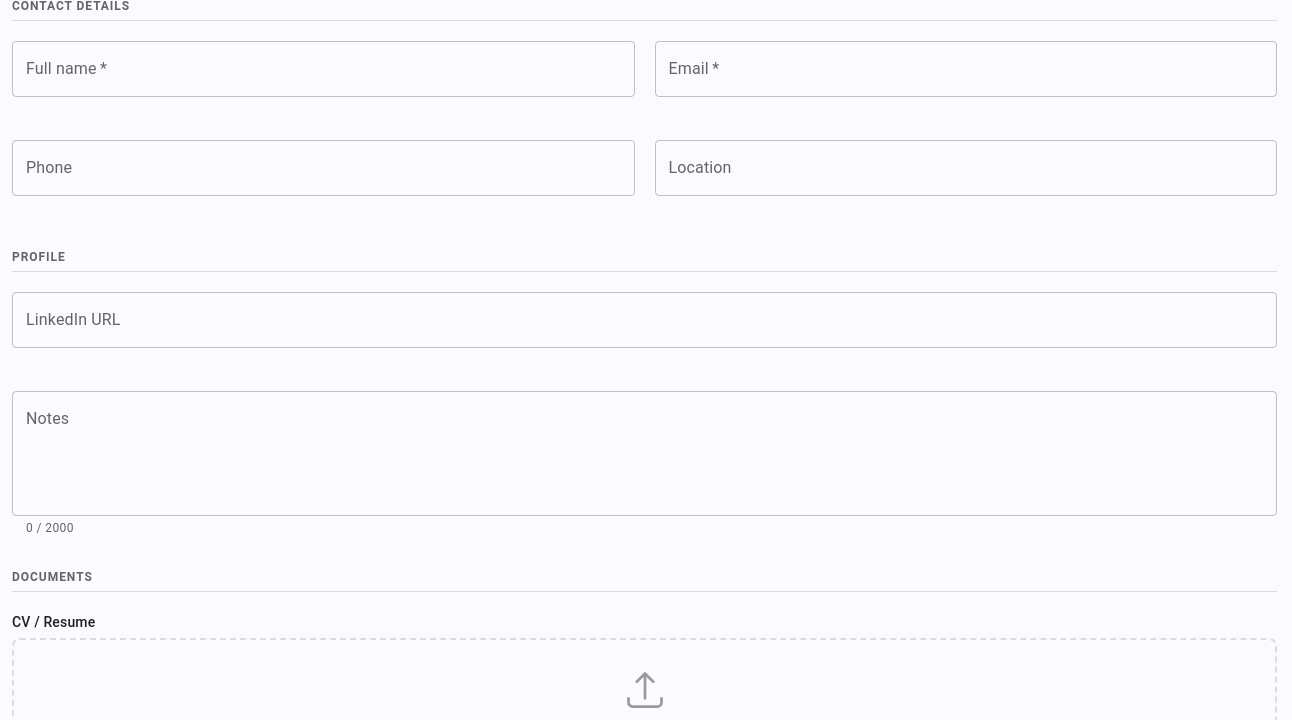
Test: validates invalid email format
In the field labelled "Full name *": [323, 69] box [12,41,634,97], type "Ada Lovelace"
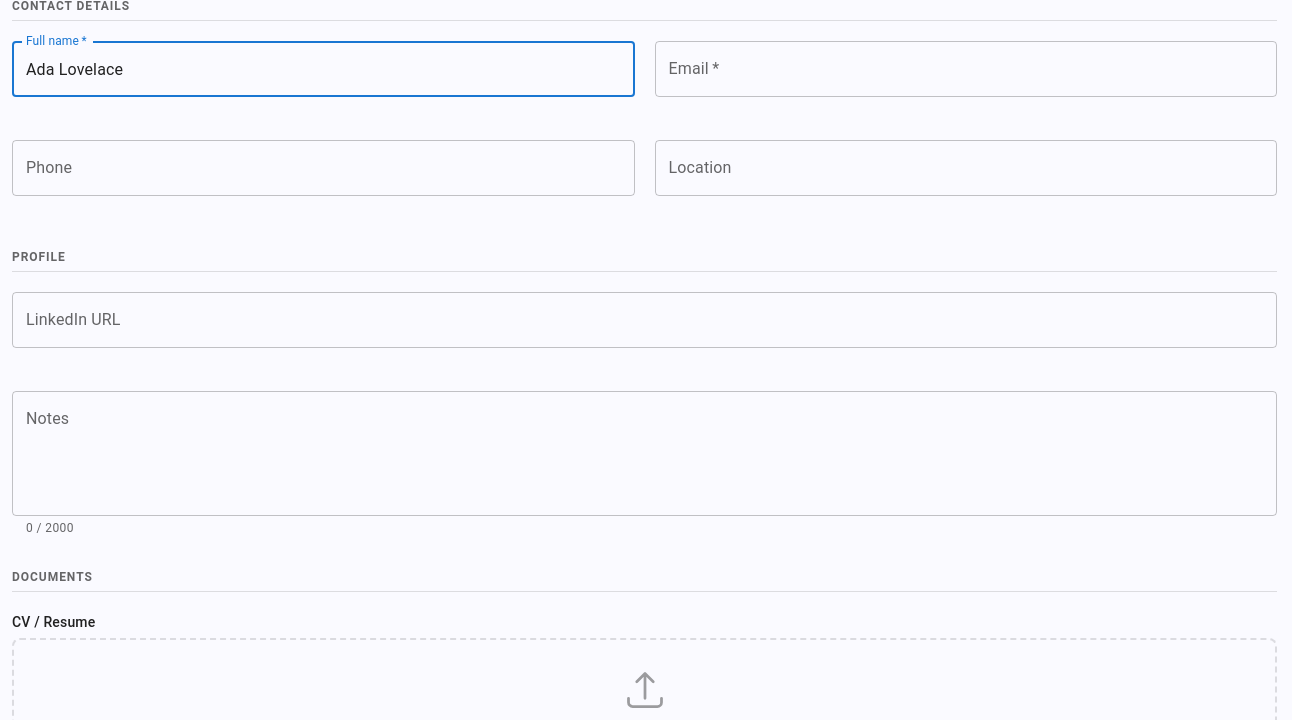
In the field labelled "Email *": [966, 69] box [654,41,1277,97], type "not-an-email"
(page scrolled)
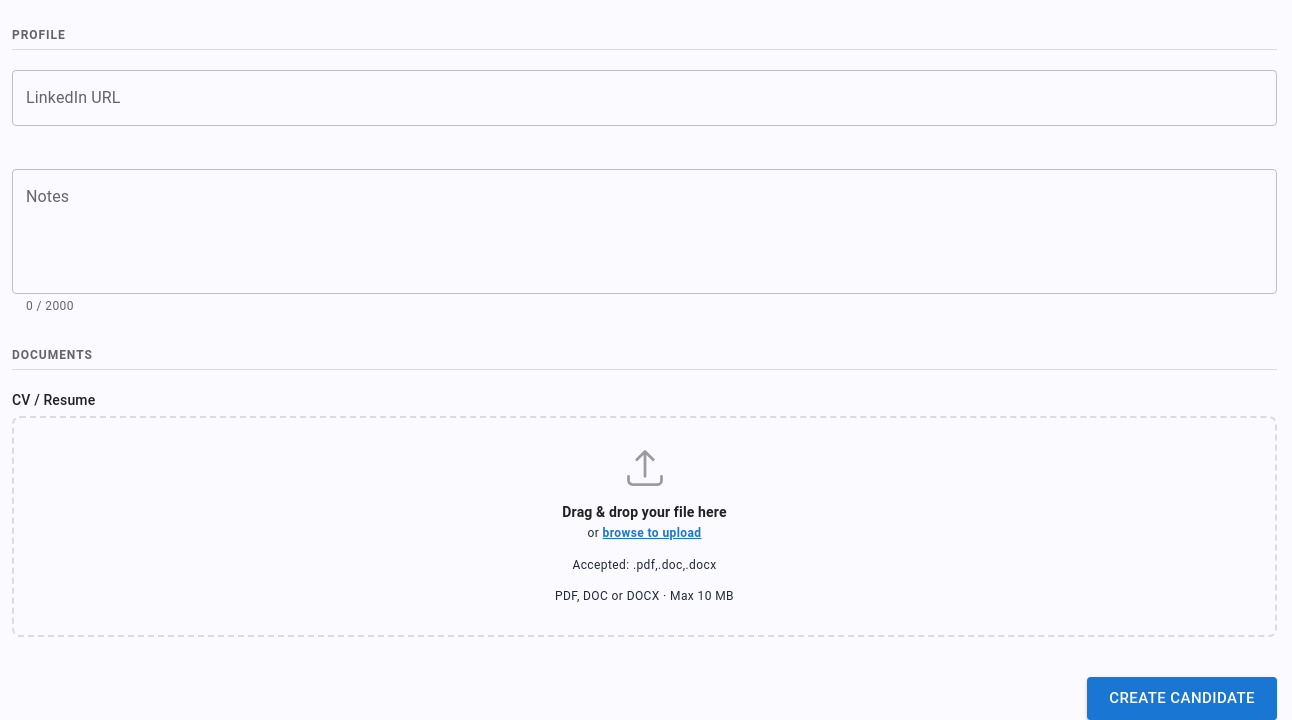
Click the button "Create candidate": [1182, 699] box [1087,677,1277,719]
(page scrolled)
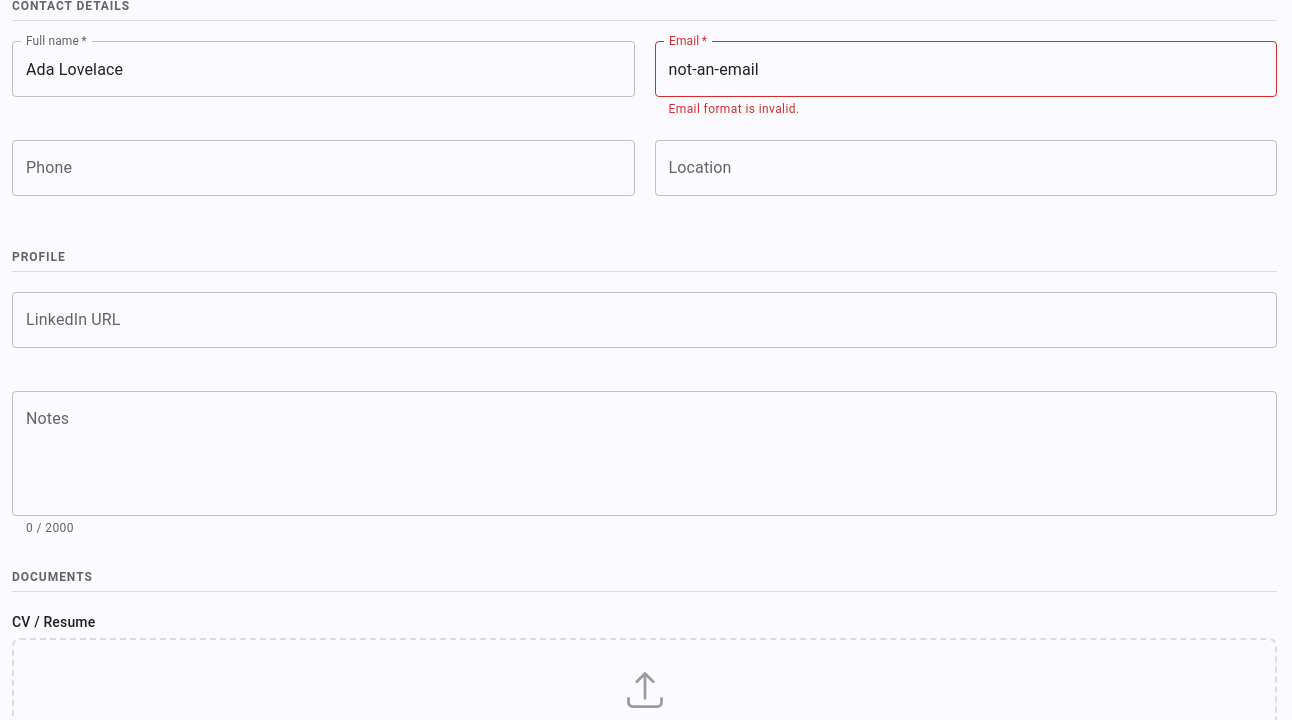
Check: the text "Email format is invalid." is shown, box [668,102,800,116]
